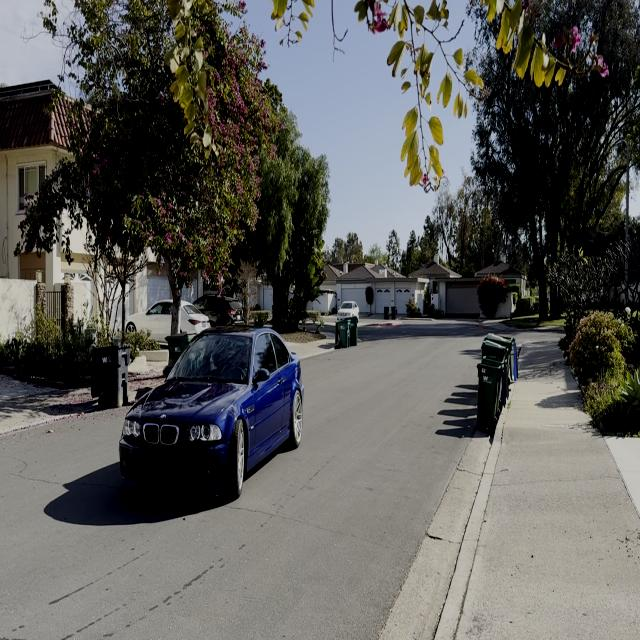Carbeetle: (111, 312, 315, 530)
